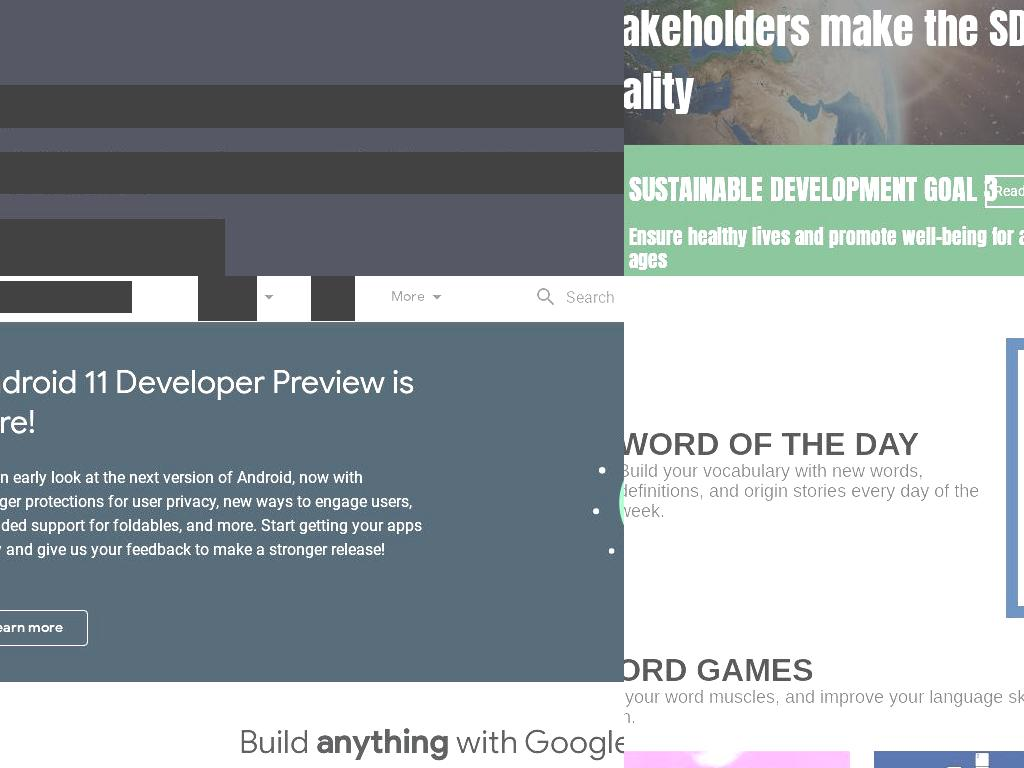button: (0, 281, 132, 313), (0, 610, 88, 646), (984, 175, 1024, 209)
field: (526, 279, 624, 315)
heading: (629, 173, 998, 276), (0, 362, 423, 442), (0, 85, 624, 128), (629, 225, 1024, 272), (624, 658, 1024, 683), (448, 722, 624, 762), (624, 425, 782, 462), (315, 722, 449, 762), (781, 425, 919, 462), (238, 722, 316, 762)
iframe: (672, 276, 1024, 322), (0, 219, 225, 276)
image: (562, 387, 624, 617), (0, 281, 132, 313)
link: (198, 276, 257, 321), (391, 276, 449, 321), (311, 276, 355, 321)
text: (624, 0, 1024, 145), (0, 466, 423, 562), (0, 152, 624, 194), (624, 460, 990, 521), (624, 687, 1024, 727)
